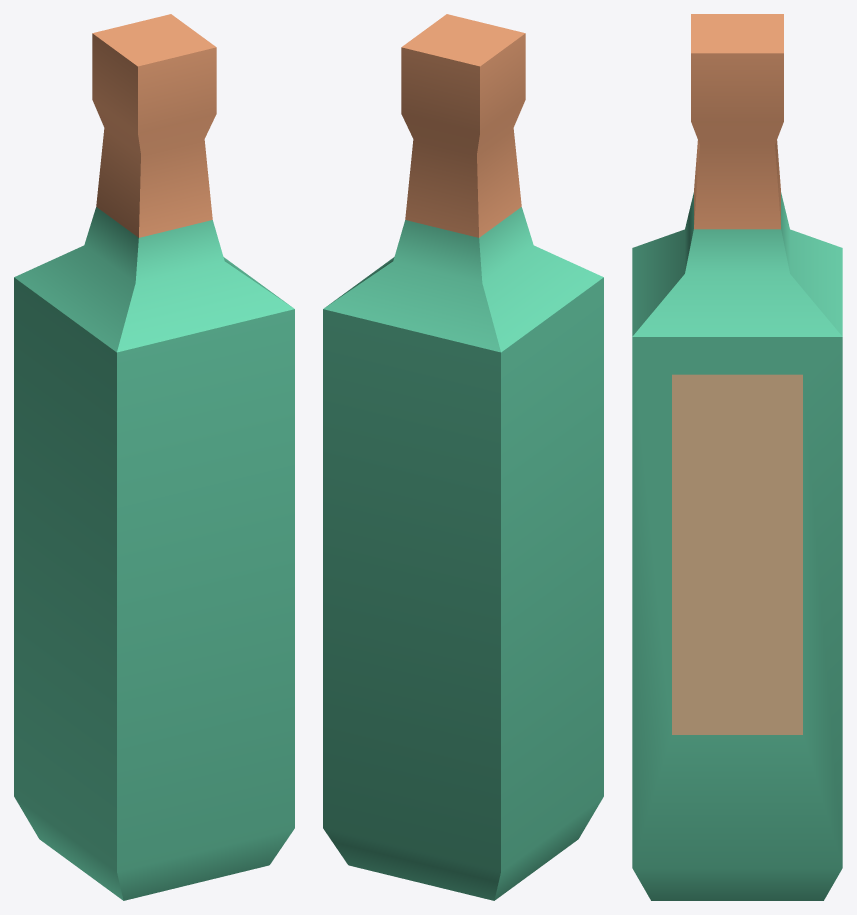
File: bottleOil.obj
3 views of the same model, side by side, from view 1: azimuth 30°, elevation 25°; view 2: azimuth 150°, elevation 25°; view 3: azimuth 270°, elevation 25° (orthographic). The views are drawn at different scales.
Visible parts, largest first — view 1: bottleOil; view 2: bottleOil; view 3: bottleOil.
Part boxes in pixels (box(x1,y1,x2,y2)): bottleOil: box(14, 14, 294, 900); bottleOil: box(323, 14, 603, 900); bottleOil: box(632, 14, 842, 900).
Size of the model in its own units: 0.14 by 0.61 by 0.14.
